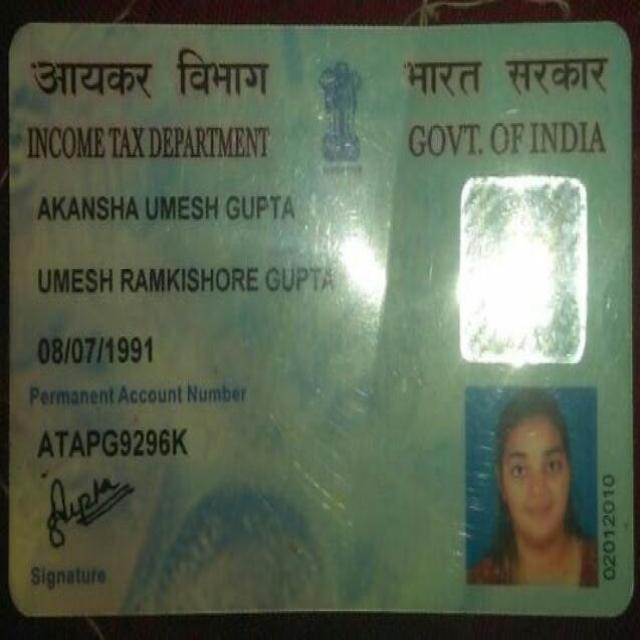pan_card: (11, 26, 630, 615)
